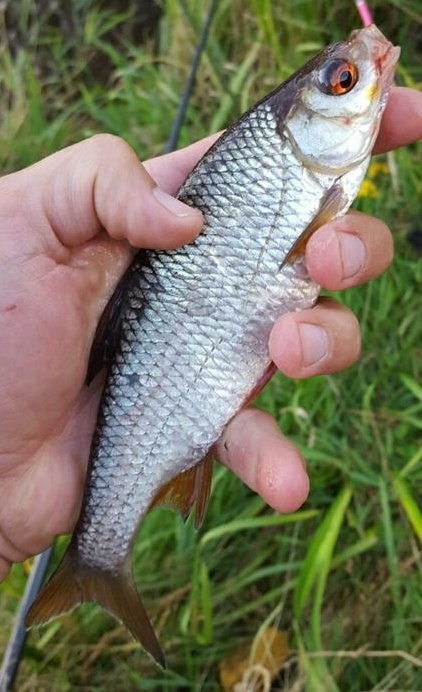Rutilus rutilus: (20, 20, 402, 672)
